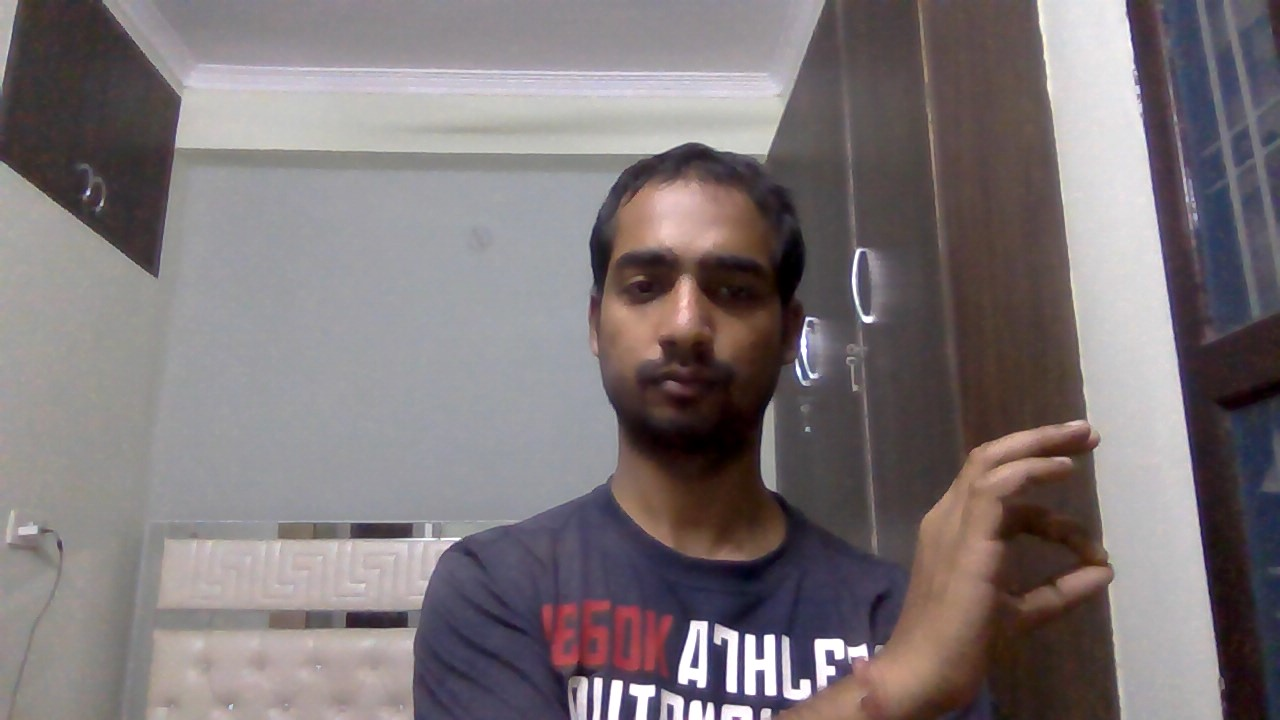Copy: (887, 413, 1122, 713)
